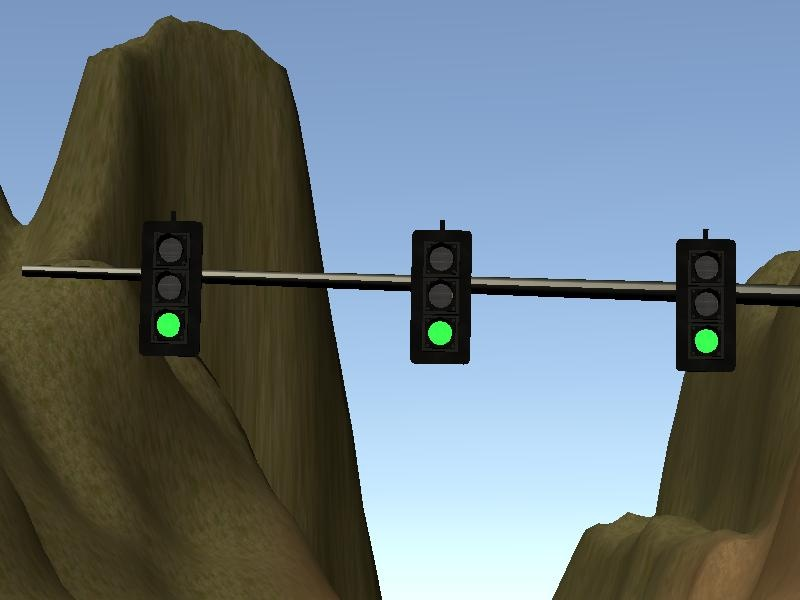green: (141, 218, 202, 353), (411, 227, 472, 362), (677, 235, 738, 370)
